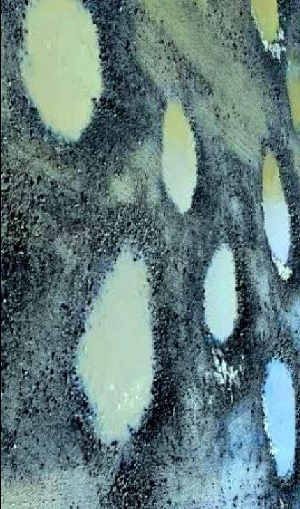pothole: (63, 226, 177, 460), (15, 0, 118, 156), (258, 333, 299, 497), (157, 89, 208, 216), (260, 137, 300, 296), (198, 235, 251, 355), (247, 0, 287, 58), (284, 54, 299, 137)
